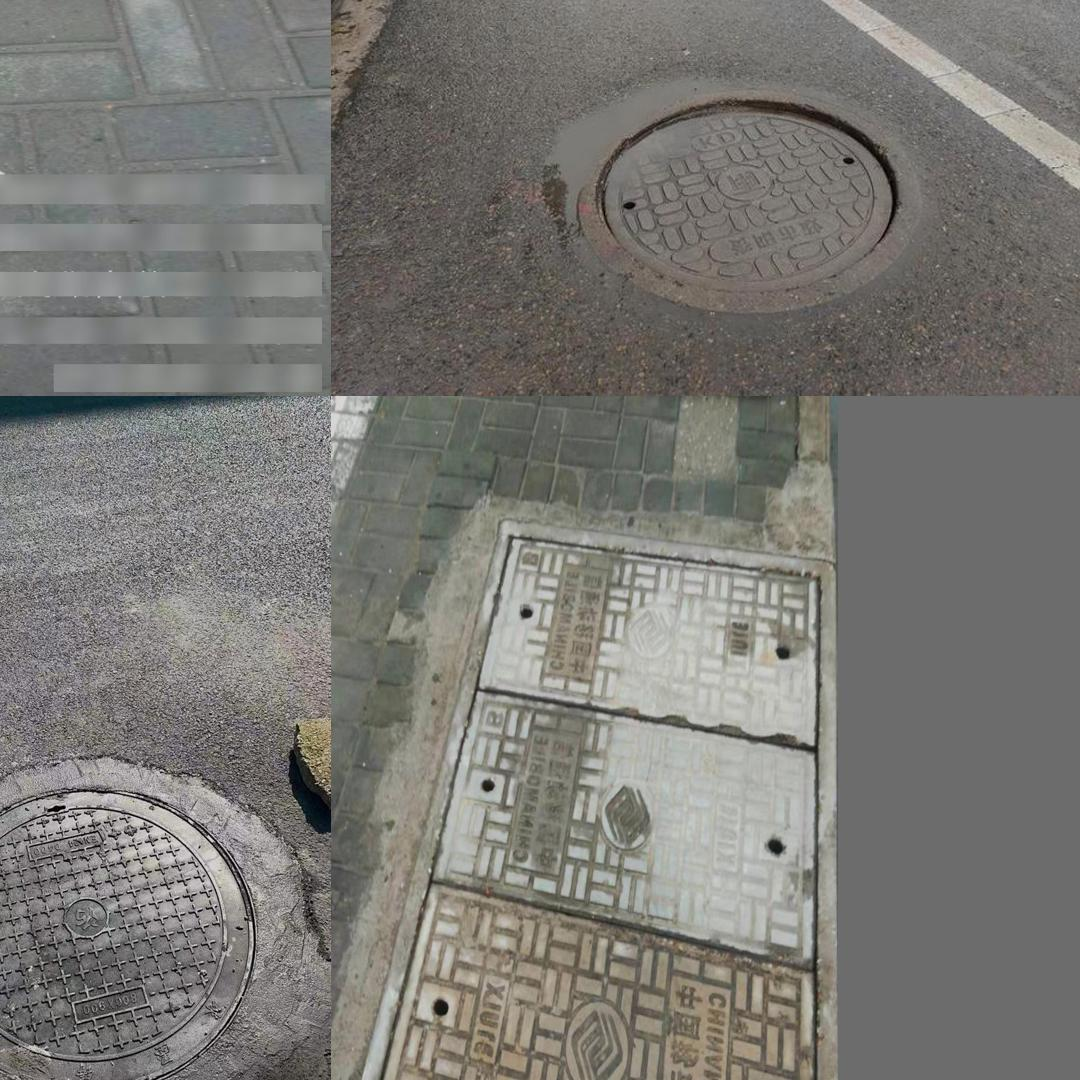good: (339, 519, 836, 1080), (0, 734, 306, 1080), (528, 68, 931, 322)
